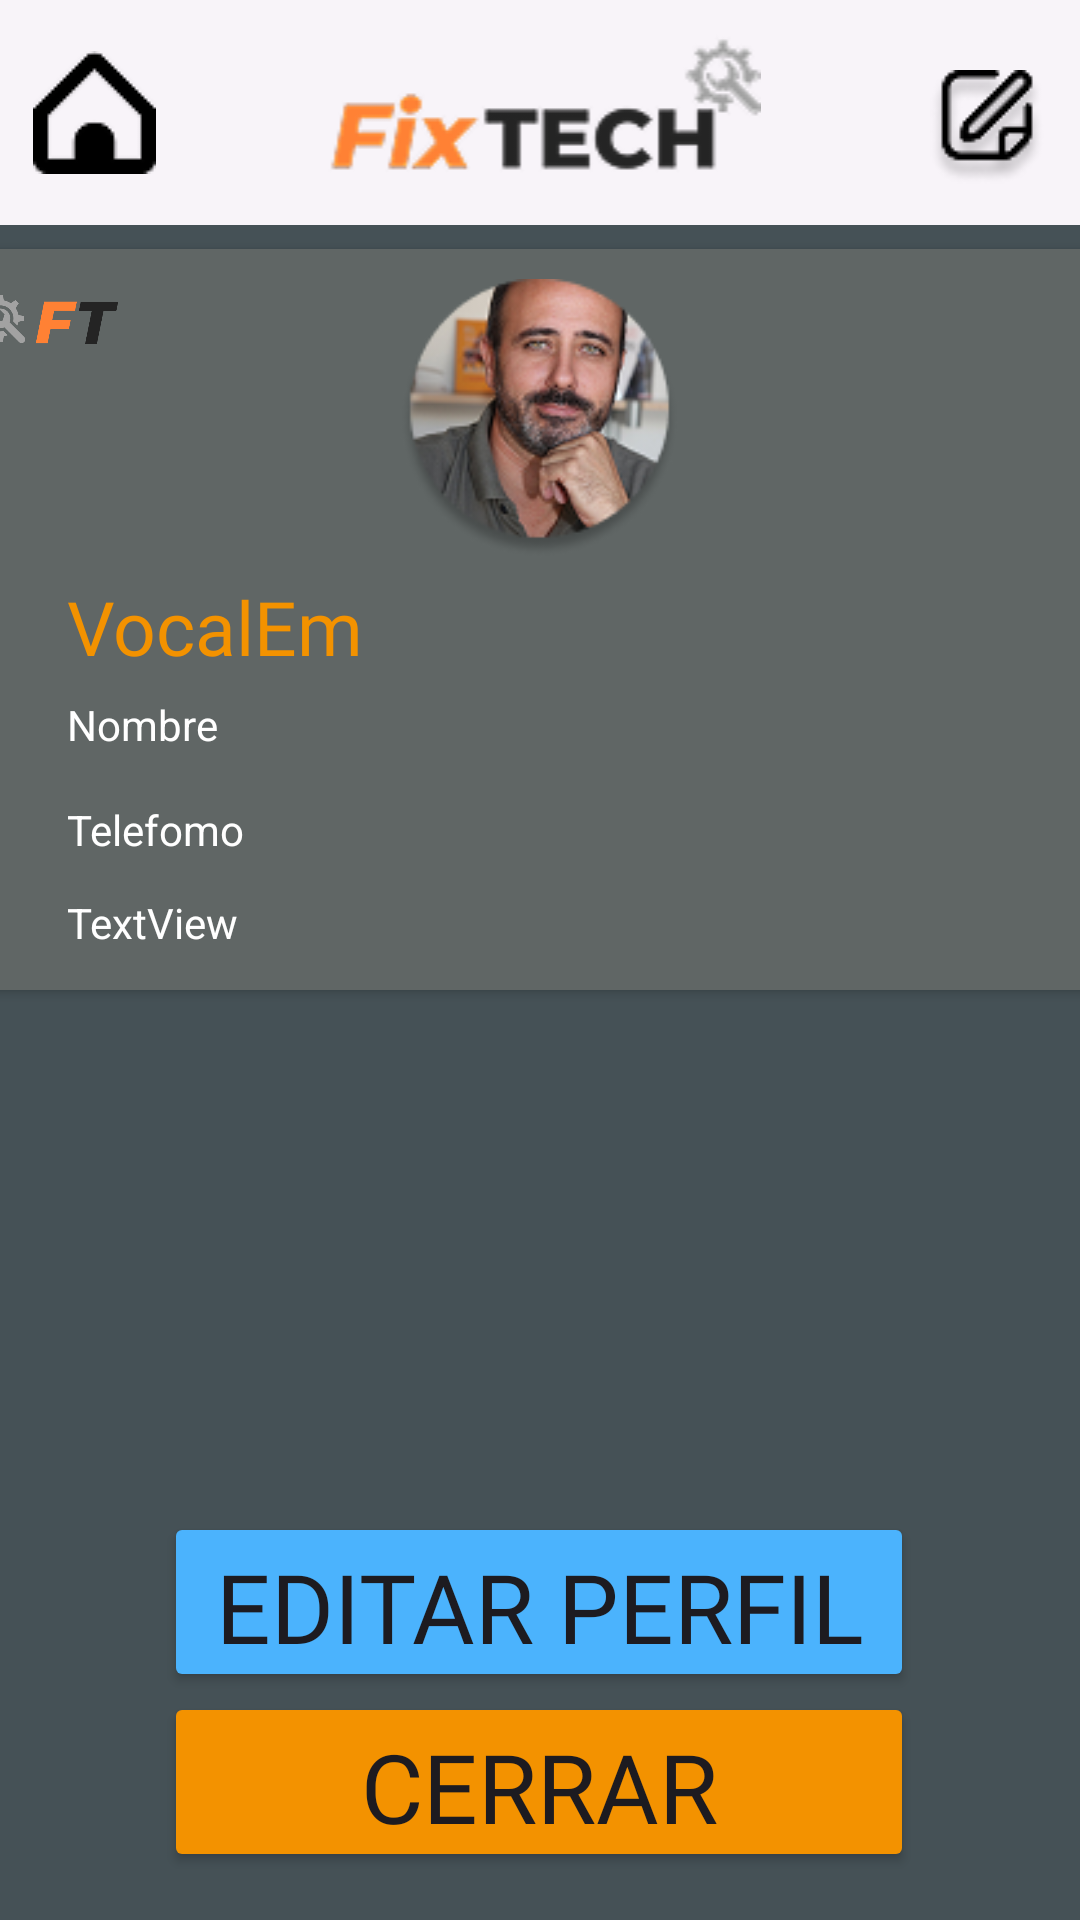

Icon click points for this 1080x1920 phone screenshot, format (x,y):
editar: (987,121)
home: (94,112)
profile: (539,410)
